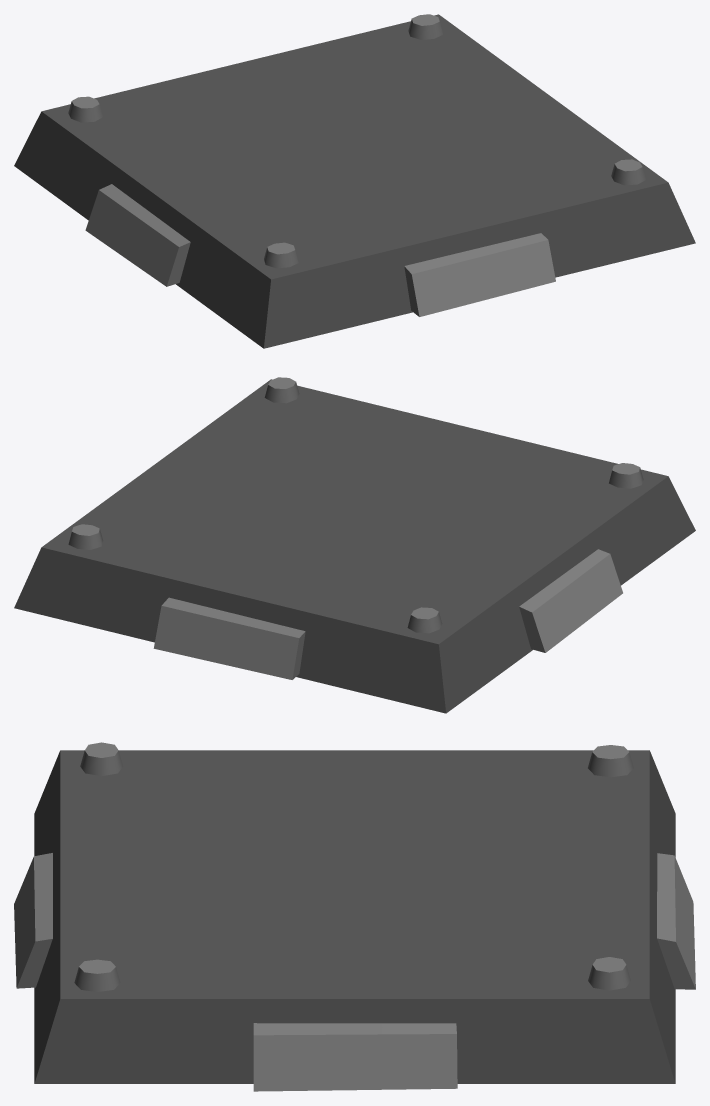
The model's file is MortarG_Plate00.FBX.
3 renders of one model, top to bottom at view 1: azimuth 30°, elevation 25°; view 2: azimuth 150°, elevation 25°; view 3: azimuth 270°, elevation 25°, orthographic. The views are drawn at different scales.
Visible parts, largest first — view 1: MortarG_Plate00; view 2: MortarG_Plate00; view 3: MortarG_Plate00.
Boxes of the visible parts, left/top/right/bottom form: MortarG_Plate00: left=14, top=14, right=695, bottom=348; MortarG_Plate00: left=14, top=377, right=695, bottom=713; MortarG_Plate00: left=14, top=742, right=695, bottom=1091.
Size of the model in its own units: 224 by 32.8 by 224.
